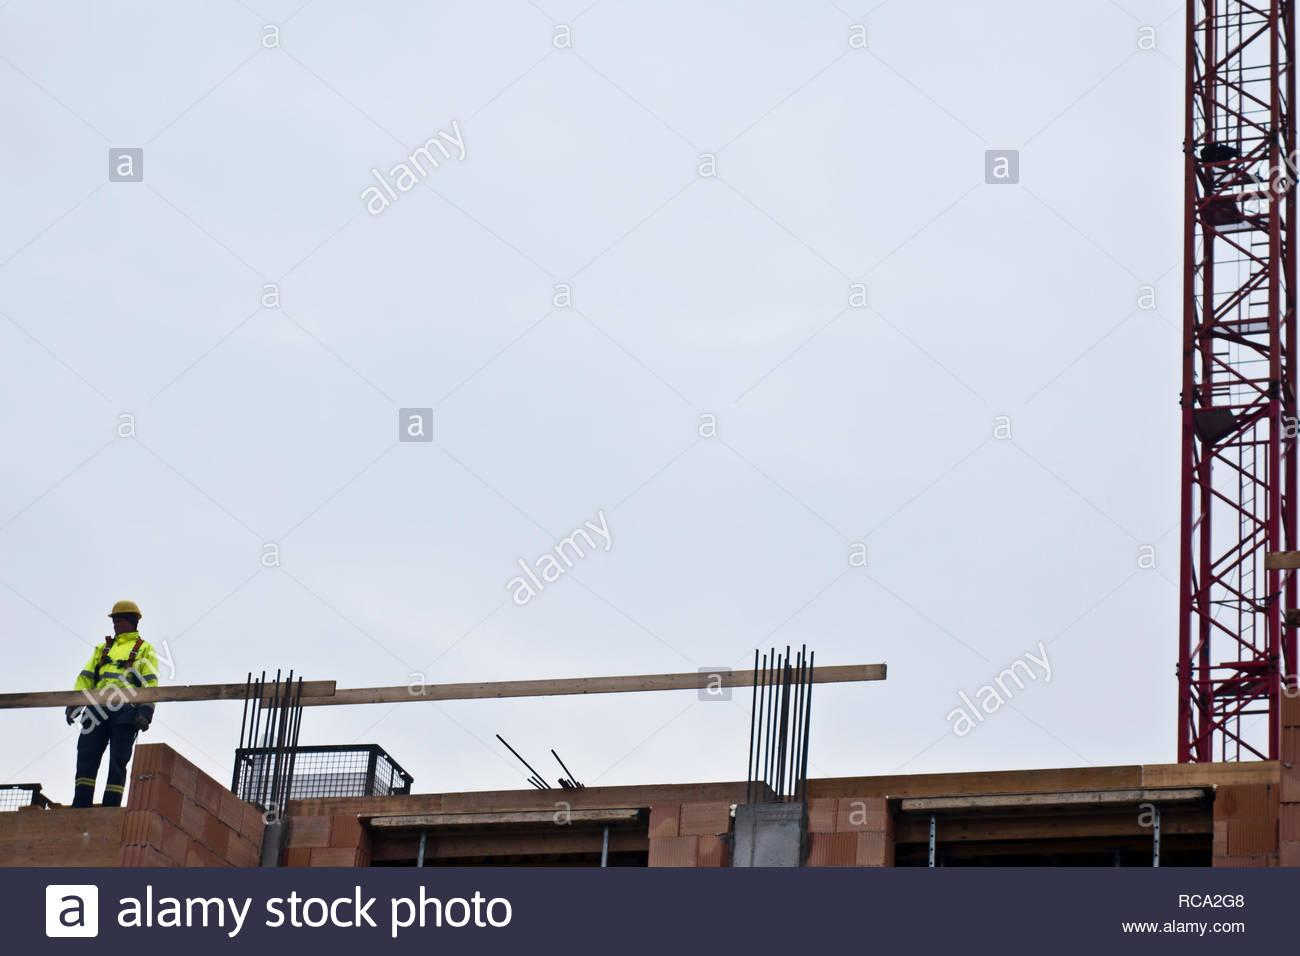helmet: (108, 599, 143, 622)
